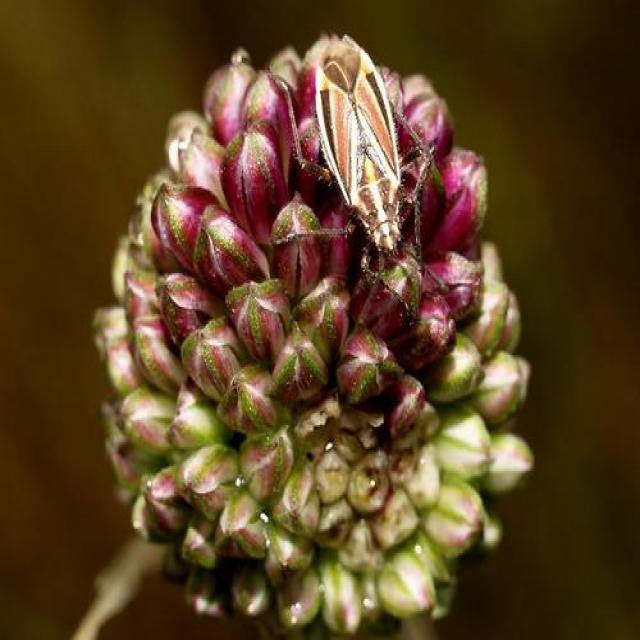Miridae-Adult-: (268, 48, 438, 291)
